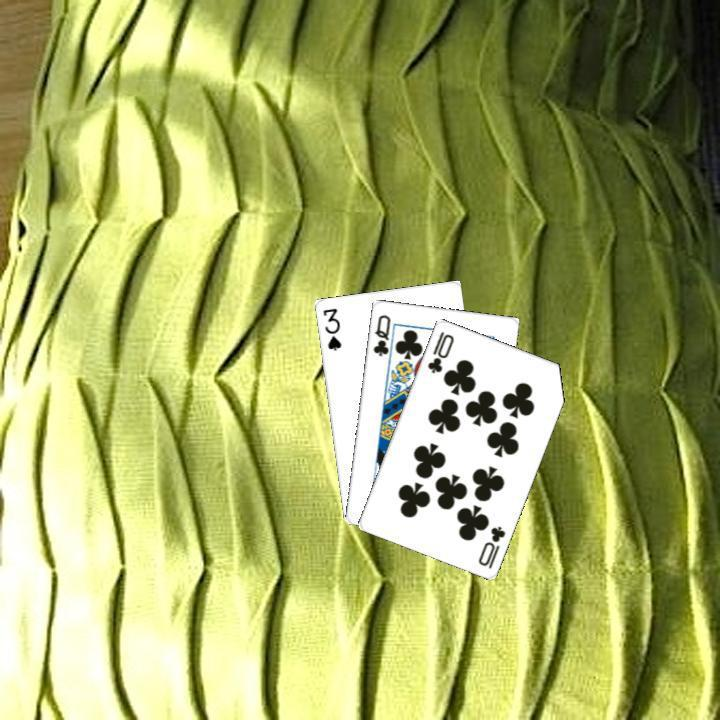10: (474, 521, 507, 570), (423, 327, 456, 375)
3: (318, 304, 343, 352)
Q: (368, 310, 392, 358)
